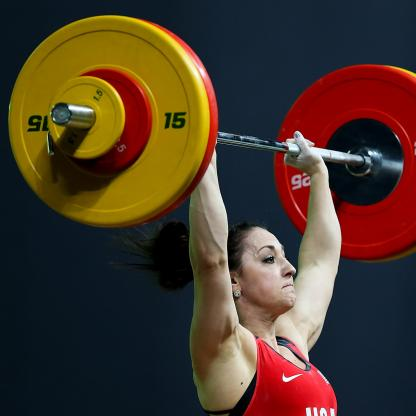barbell: (10, 16, 206, 228), (273, 64, 416, 264)
